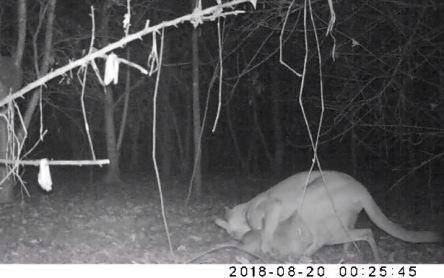OncaParda: (214, 167, 441, 260)
